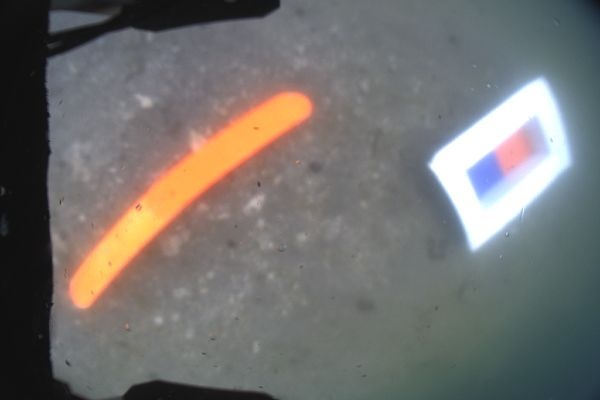bin: (430, 79, 572, 251)
bin_bleue: (468, 152, 502, 198)
bin_rouge: (494, 129, 534, 175)
path: (68, 90, 312, 308)
